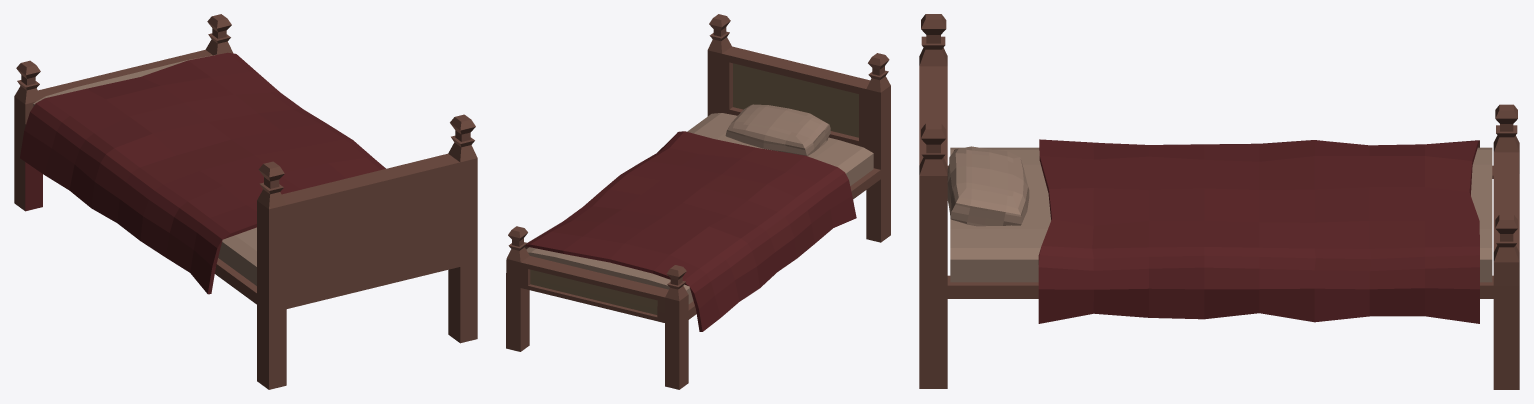
File: bed.fbx
3 views of the same model, side by side, from view 1: azimuth 30°, elevation 25°; view 2: azimuth 150°, elevation 25°; view 3: azimuth 270°, elevation 25° (orthographic). The views are drawn at different scales.
Visible parts, largest first — view 1: Bed; view 2: Bed; view 3: Bed.
Part boxes in pixels (box(x1,y1,x2,y2)): Bed: box(14, 14, 477, 389); Bed: box(506, 14, 890, 389); Bed: box(919, 14, 1519, 389).
Size of the model in its own units: 170 by 153 by 323.
